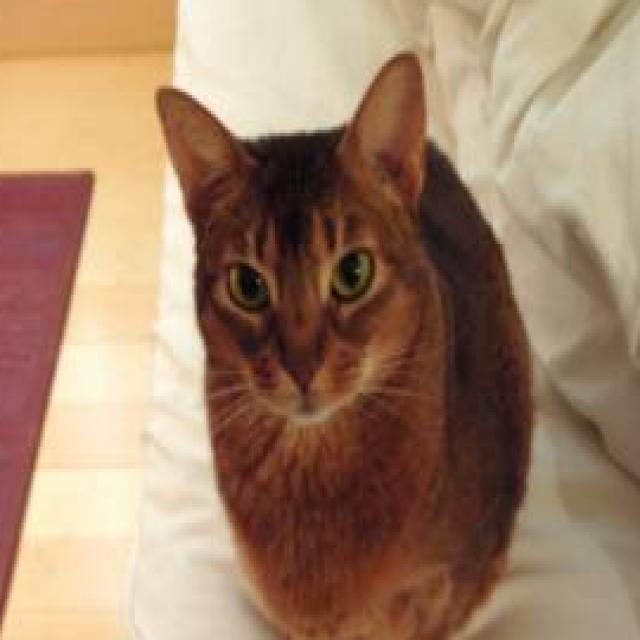Abyssinian: (154, 41, 548, 640)
